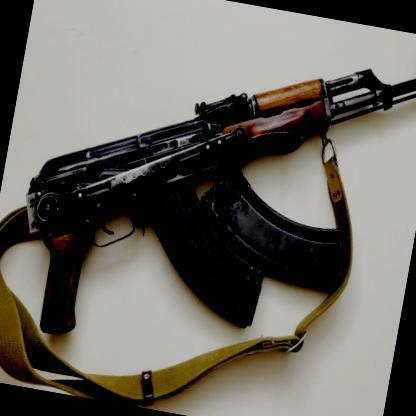rifle: (3, 0, 416, 399)
